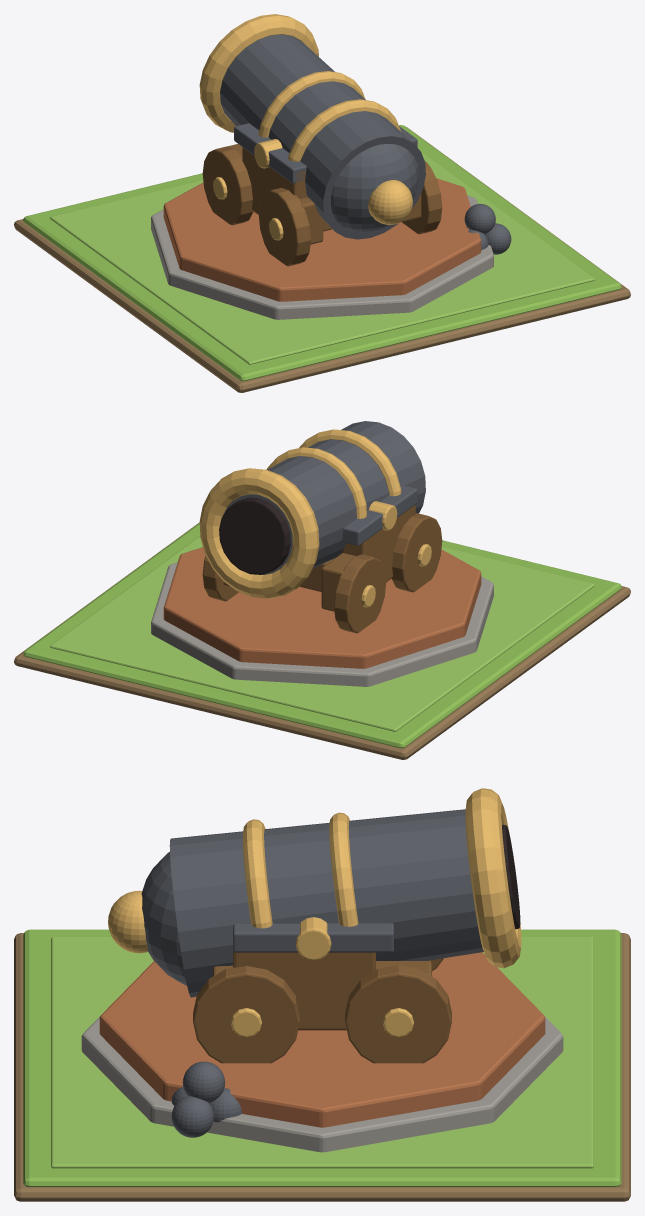
File: cannon_lv3.glb
3 views of the same model, one above another, from view 1: azimuth 30°, elevation 25°; view 2: azimuth 150°, elevation 25°; view 3: azimuth 270°, elevation 25° (orthographic). The views are drawn at different scales.
Parts seen in each view (by area): view 1: Base_Inner, TurntableWood, Base_Grass, CannonBarrel, Base_Dirt, TurntableStone, CannonBreech, MuzzleLip, CannonWheel_-1_-1, CannonWheel_-1_1, RearBarrelBand, CascabelKnob (+7 smaller); view 2: Base_Inner, TurntableWood, Base_Grass, CannonBarrel, Base_Dirt, TurntableStone, MuzzleLip, BarrelBore, CannonWheel_-1_1, CannonWheel_-1_-1, CheekArmorPlate_-1, CarriageLower_-1 (+5 smaller); view 3: Base_Inner, TurntableWood, CannonBarrel, Base_Grass, Base_Dirt, TurntableStone, CannonWheel_1_1, CannonWheel_1_-1, MuzzleLip, CheekArmorPlate_1, CannonBreech, CarriageLower_1 (+11 smaller).
Boxes of the visible parts, <box> form: Base_Inner: <box>50,151,594,364</box>; TurntableWood: <box>163,178,481,301</box>; Base_Grass: <box>23,125,621,381</box>; CannonBarrel: <box>220,34,425,239</box>; Base_Dirt: <box>14,127,630,392</box>; TurntableStone: <box>151,195,493,319</box>; CannonBreech: <box>331,144,418,232</box>; MuzzleLip: <box>199,14,318,132</box>; CannonWheel_-1_-1: <box>258,187,310,266</box>; CannonWheel_-1_1: <box>202,146,253,225</box>; RearBarrelBand: <box>288,99,400,161</box>; CascabelKnob: <box>368,180,412,224</box>; Base_Inner: <box>50,536,594,731</box>; TurntableWood: <box>163,547,481,668</box>; Base_Grass: <box>23,523,621,748</box>; CannonBarrel: <box>224,421,425,574</box>; Base_Dirt: <box>14,522,630,759</box>; TurntableStone: <box>151,562,493,686</box>; MuzzleLip: <box>199,468,319,598</box>; BarrelBore: <box>219,497,290,574</box>; CannonWheel_-1_1: <box>334,554,386,633</box>; CannonWheel_-1_-1: <box>391,513,442,592</box>; CheekArmorPlate_-1: <box>341,485,417,545</box>; CarriageLower_-1: <box>321,513,416,611</box>; Base_Inner: <box>51,937,593,1168</box>; TurntableWood: <box>99,952,545,1127</box>; CannonBarrel: <box>169,809,483,997</box>; Base_Grass: <box>23,929,621,1186</box>; Base_Dirt: <box>14,933,630,1201</box>; TurntableStone: <box>81,1016,563,1152</box>; CannonWheel_1_1: <box>345,965,451,1063</box>; CannonWheel_1_-1: <box>193,966,299,1063</box>; MuzzleLip: <box>465,788,521,968</box>; CheekArmorPlate_1: <box>233,923,393,952</box>; CannonBreech: <box>141,852,186,985</box>; CarriageLower_1: <box>213,961,431,1030</box>.
Size of the model in its own units: 2.76 by 1.37 by 2.76.
